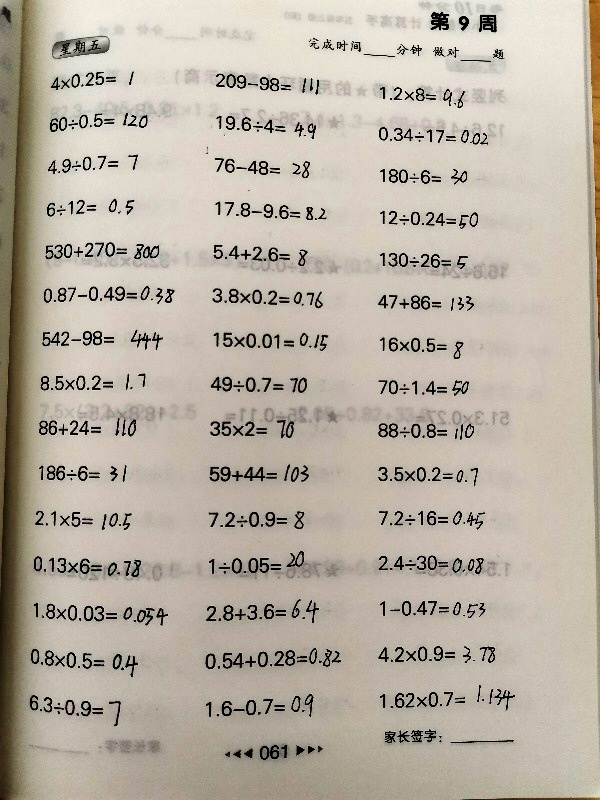equation: (376, 681, 518, 712), (201, 645, 344, 671), (30, 601, 171, 627), (202, 595, 322, 625), (202, 690, 318, 721), (26, 645, 141, 674), (40, 283, 178, 307), (25, 694, 124, 727), (37, 327, 170, 351), (374, 641, 499, 666), (42, 239, 164, 264), (210, 328, 331, 353), (208, 286, 326, 311), (202, 153, 314, 179), (29, 554, 145, 579), (376, 596, 489, 621), (375, 506, 488, 531), (375, 551, 487, 576), (36, 415, 143, 441), (374, 463, 481, 489), (211, 200, 330, 223), (43, 66, 144, 93), (36, 370, 149, 394), (205, 508, 309, 534), (374, 124, 491, 147), (206, 551, 309, 577), (376, 207, 482, 232), (212, 71, 322, 95), (31, 508, 135, 533), (206, 462, 313, 486), (212, 113, 319, 137), (45, 109, 151, 133), (209, 242, 310, 267), (375, 333, 467, 360), (374, 419, 478, 442), (36, 461, 131, 486), (207, 373, 310, 396), (374, 291, 477, 314), (207, 416, 298, 442), (44, 151, 141, 175), (376, 82, 468, 107), (42, 195, 137, 219), (375, 377, 473, 400), (377, 165, 472, 188), (376, 249, 471, 271)
